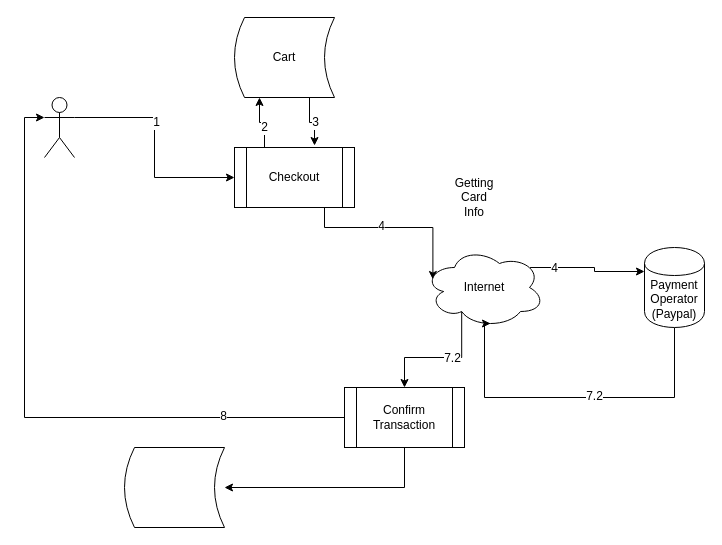
Some shapes in this 722 by 545 pixel diagram are drawn without their labels. Here are the shapes that lost their labels. From the top down, the centre of each, then its label:
At point (59, 127): "Buyer".
At point (174, 487): "Receipts".
